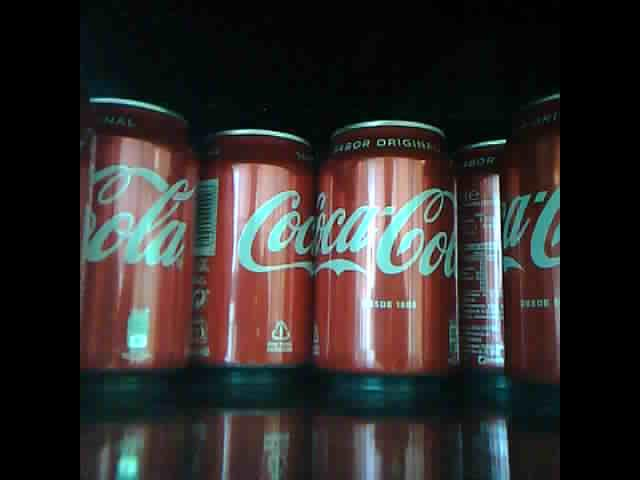coca cola: (316, 115, 462, 390), (87, 90, 194, 385), (199, 113, 312, 378), (503, 79, 560, 402), (453, 132, 507, 386)
